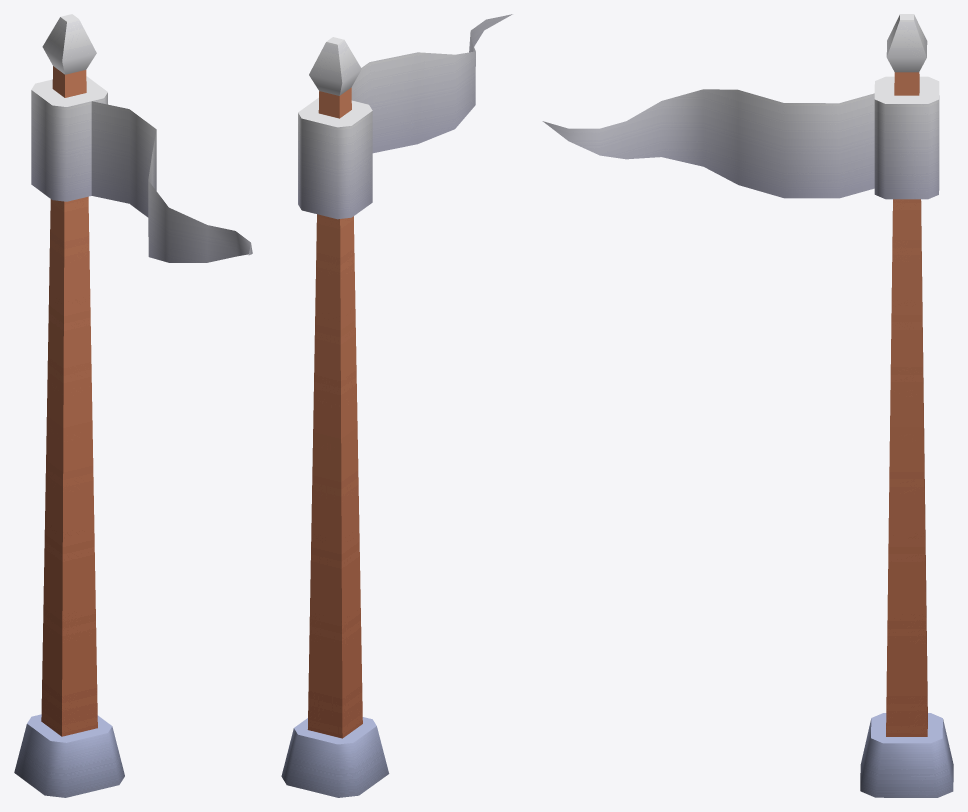
File: flag-high-pennant_lev2.glb
The picture shows the model from 3 angles, left to right: view 1: azimuth 30°, elevation 25°; view 2: azimuth 150°, elevation 25°; view 3: azimuth 270°, elevation 25°; orthographic projection. The views are drawn at different scales.
Parts seen in each view (by area): view 1: flag-high-pennant_lev2; view 2: flag-high-pennant_lev2; view 3: flag-high-pennant_lev2.
Boxes of the visible parts, box(x1,y1,x2,y2) form: flag-high-pennant_lev2: box(14, 14, 252, 797); flag-high-pennant_lev2: box(281, 14, 512, 797); flag-high-pennant_lev2: box(542, 14, 953, 797).
Bounding box in the file's own units: 0.7474 × 6.71 × 3.29.
Materials: 1 (1 with a texture image).
